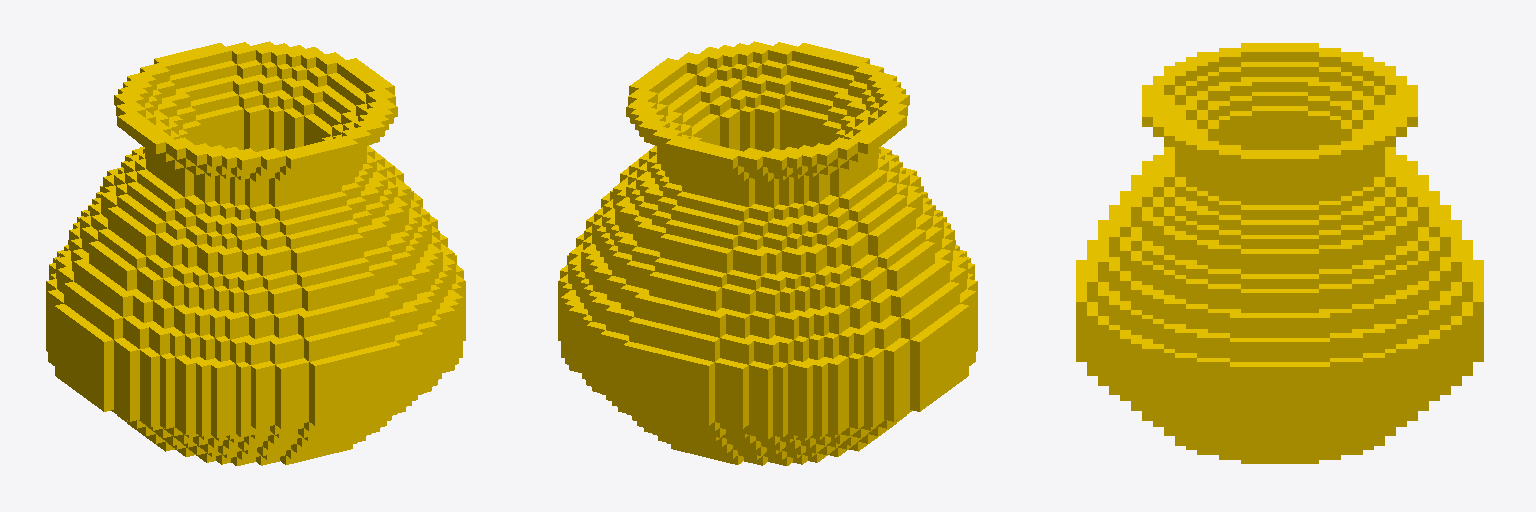
3 views of the same model, side by side, from view 1: azimuth 30°, elevation 25°; view 2: azimuth 150°, elevation 25°; view 3: azimuth 270°, elevation 25° (orthographic).
Parts seen in each view (by area): view 1: object 1; view 2: object 1; view 3: object 1.
Part boxes in pixels (x1,y1,x2,y2): object 1: (46,41,465,465); object 1: (558,41,977,465); object 1: (1076,43,1483,463).
Bounding box in the file's own units: 3.7 × 3.1 × 3.7.
Materials: 1 (1 with a texture image).